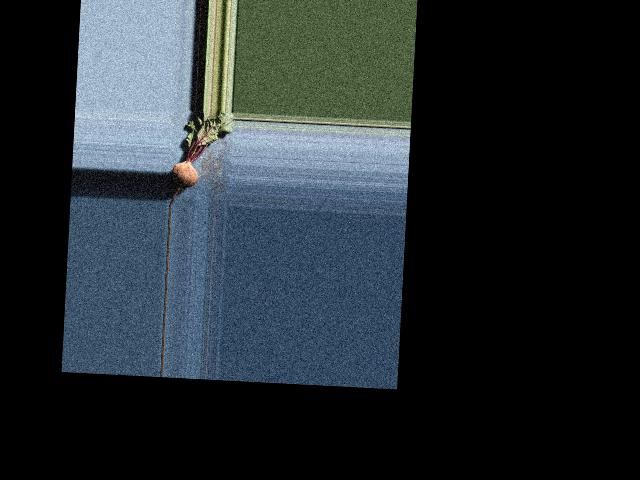beet: (169, 108, 233, 207)
